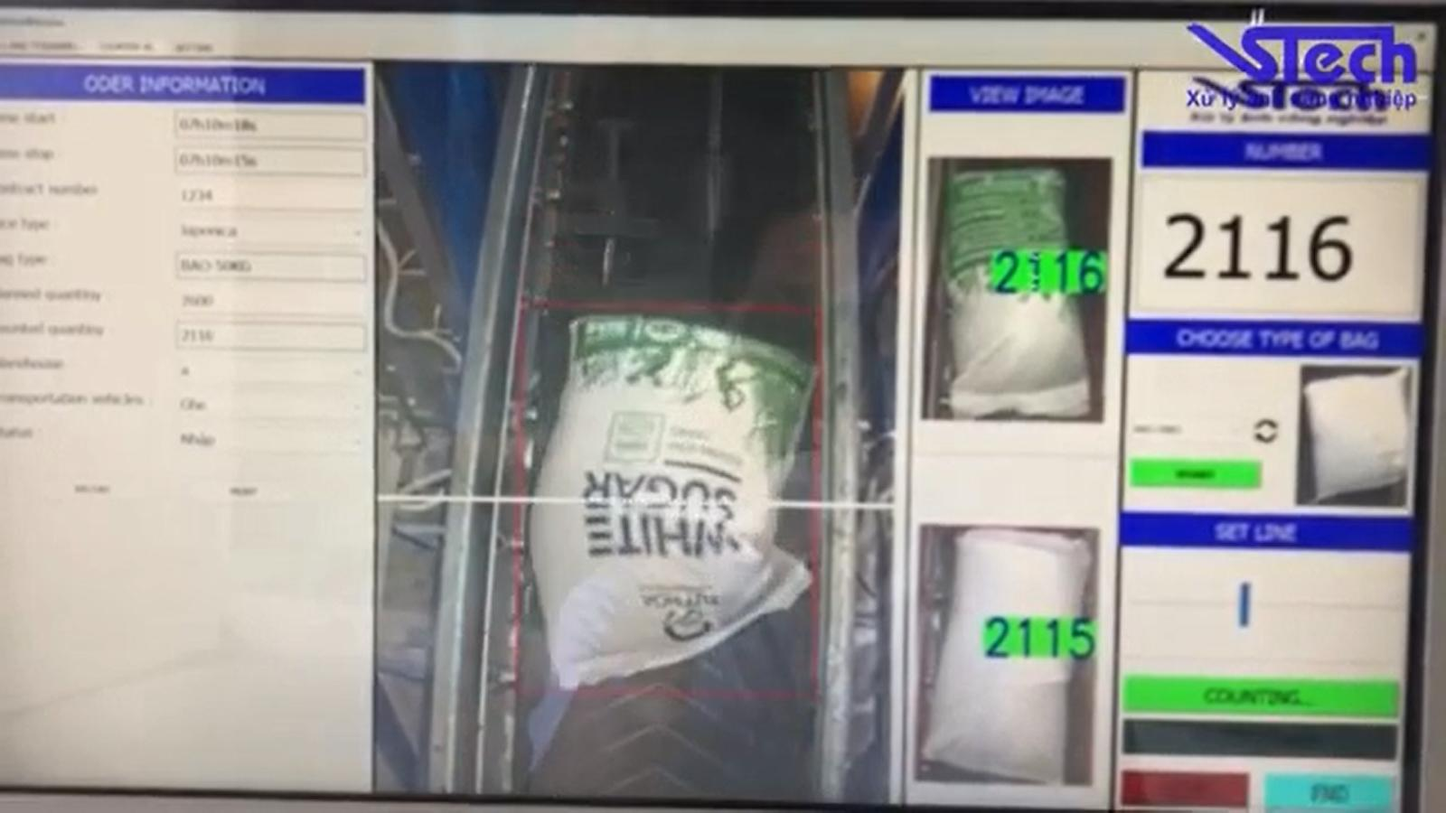rice-bag: (533, 313, 812, 687), (920, 528, 1087, 782), (939, 168, 1090, 416)
